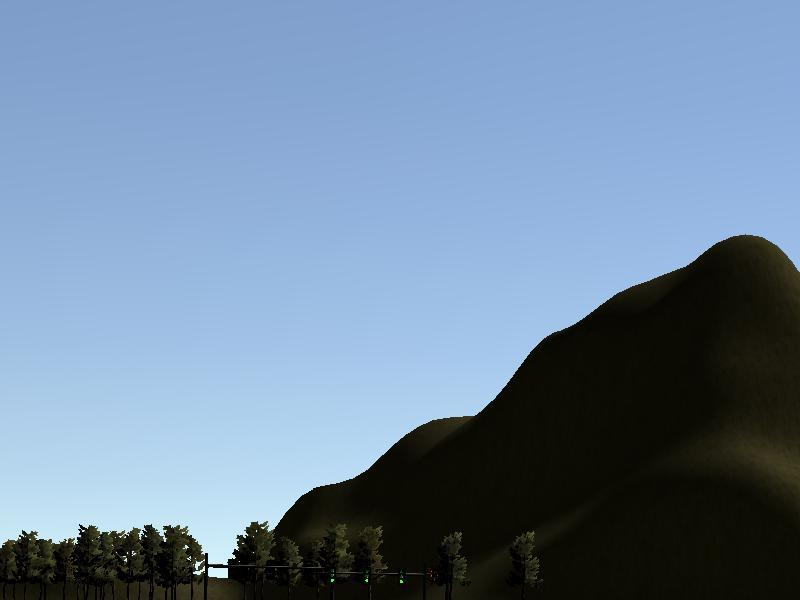Green: (326, 558, 340, 590), (358, 565, 371, 588), (395, 567, 406, 589)
